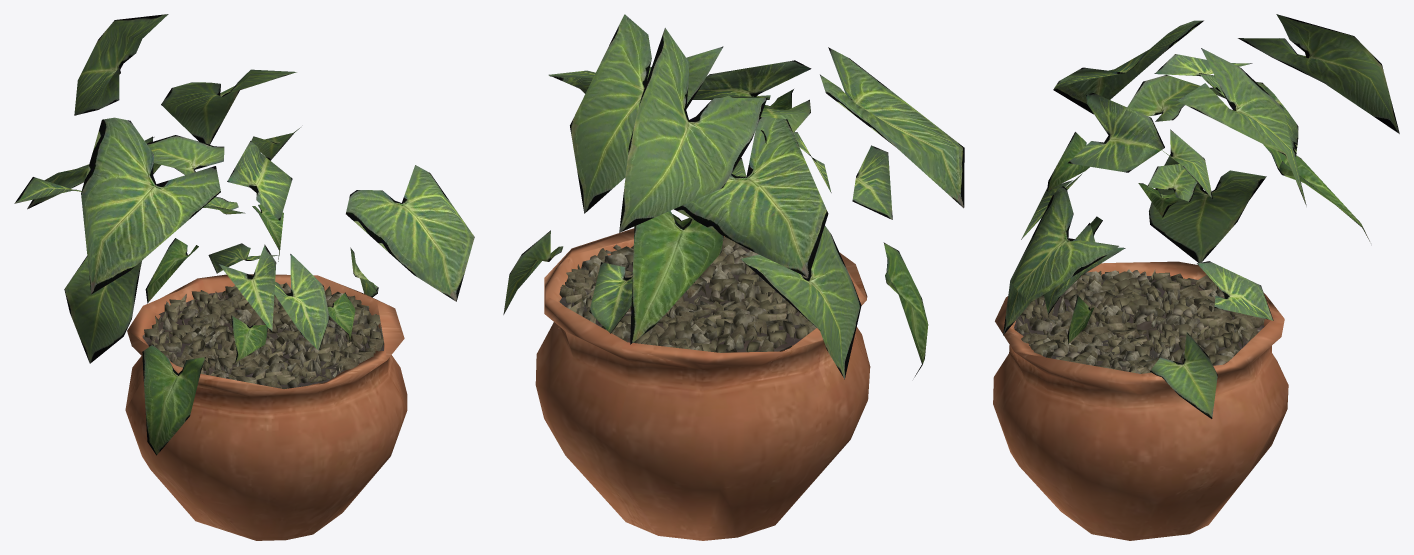
File: plant_leafy.glb
The picture shows the model from 3 angles, left to right: view 1: azimuth 30°, elevation 25°; view 2: azimuth 150°, elevation 25°; view 3: azimuth 270°, elevation 25°; orthographic projection. The views are drawn at different scales.
Visible parts, largest first — view 1: potted_plant_02_leaves, potted_plant_02_pot; view 2: potted_plant_02_leaves, potted_plant_02_pot; view 3: potted_plant_02_pot, potted_plant_02_leaves.
Boxes of the visible parts, x1,y1,x2,y2 form: potted_plant_02_leaves: (14, 14, 474, 455); potted_plant_02_pot: (125, 274, 407, 540); potted_plant_02_leaves: (503, 14, 964, 379); potted_plant_02_pot: (535, 228, 870, 540); potted_plant_02_pot: (993, 261, 1288, 540); potted_plant_02_leaves: (1003, 14, 1399, 418).
Bounding box in the file's own units: 0.6969 × 0.8395 × 0.6481.
2 materials, 2 textured.
